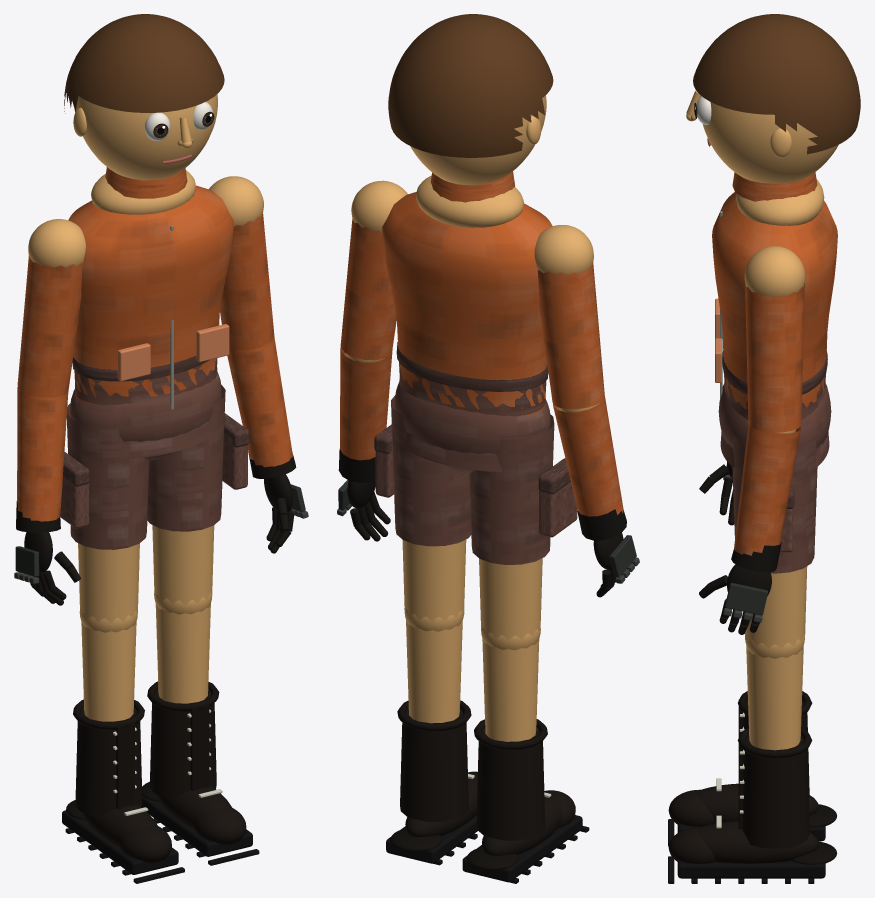
File: 05-short-cargo.glb
3 views of the same model, side by side, from view 1: azimuth 30°, elevation 25°; view 2: azimuth 150°, elevation 25°; view 3: azimuth 270°, elevation 25° (orthographic). The views are drawn at different scales.
Size of the model in its own units: 0.6344 by 1.77 by 0.3715.
Materials: 25 (4 with a texture image).
